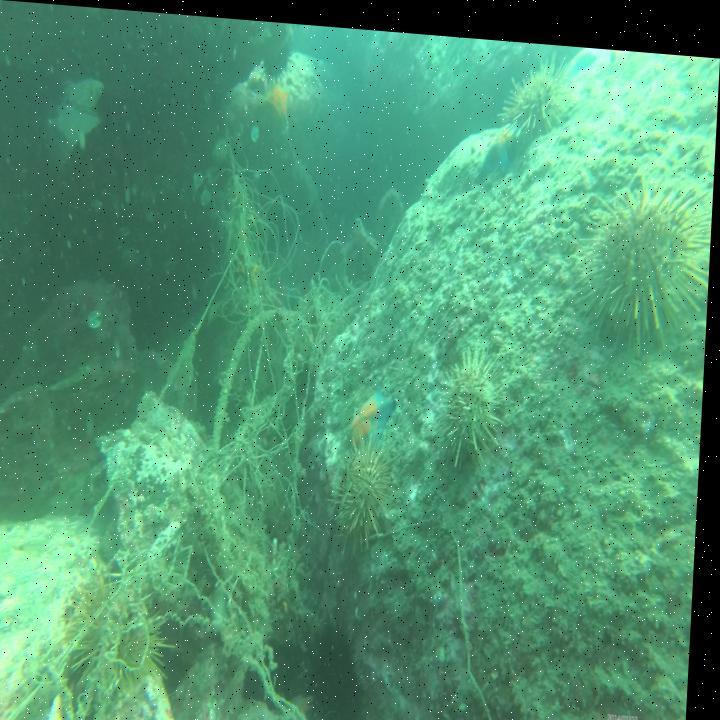echinus: (578, 171, 714, 339), (447, 341, 515, 458), (339, 453, 401, 552), (502, 50, 570, 139), (259, 21, 295, 76)
starfish: (350, 382, 400, 447), (481, 107, 523, 174), (261, 77, 295, 137), (569, 37, 601, 70)
